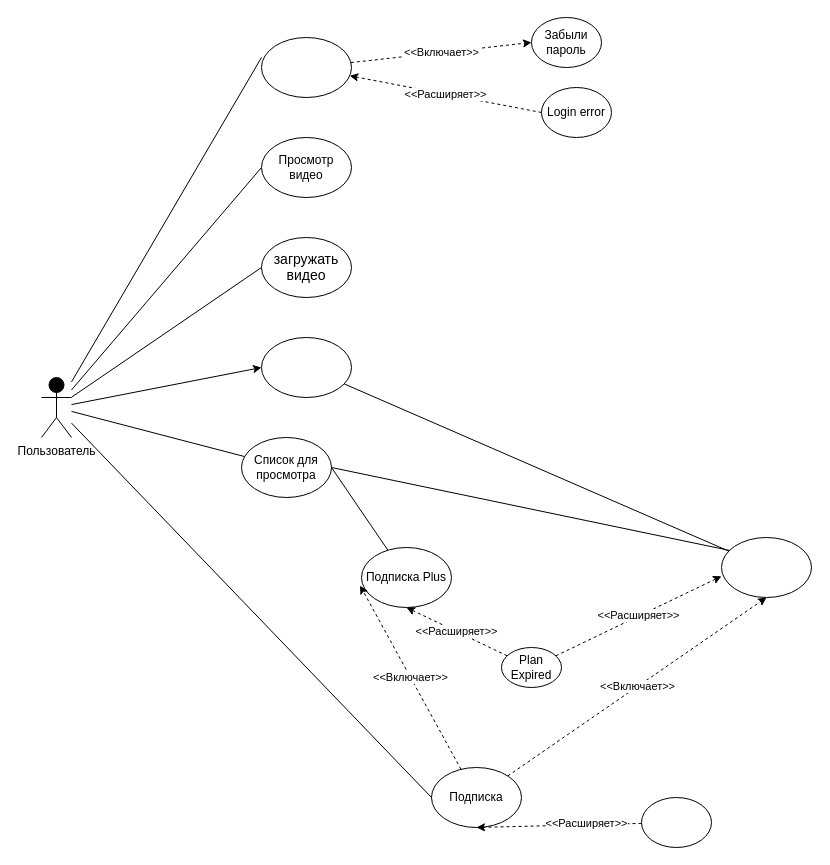
The diagram is 830 pixels wide and 865 high, and some of its shapes have lost their labels. The shapes that lost their labels are listed below. From the top down, each one's centre as x and y in pixels, then its label:
the point at 306,67: Login
the point at 306,367: отзыв
the point at 766,567: Подписка Premium
the point at 676,822: Ошибка оплаты
